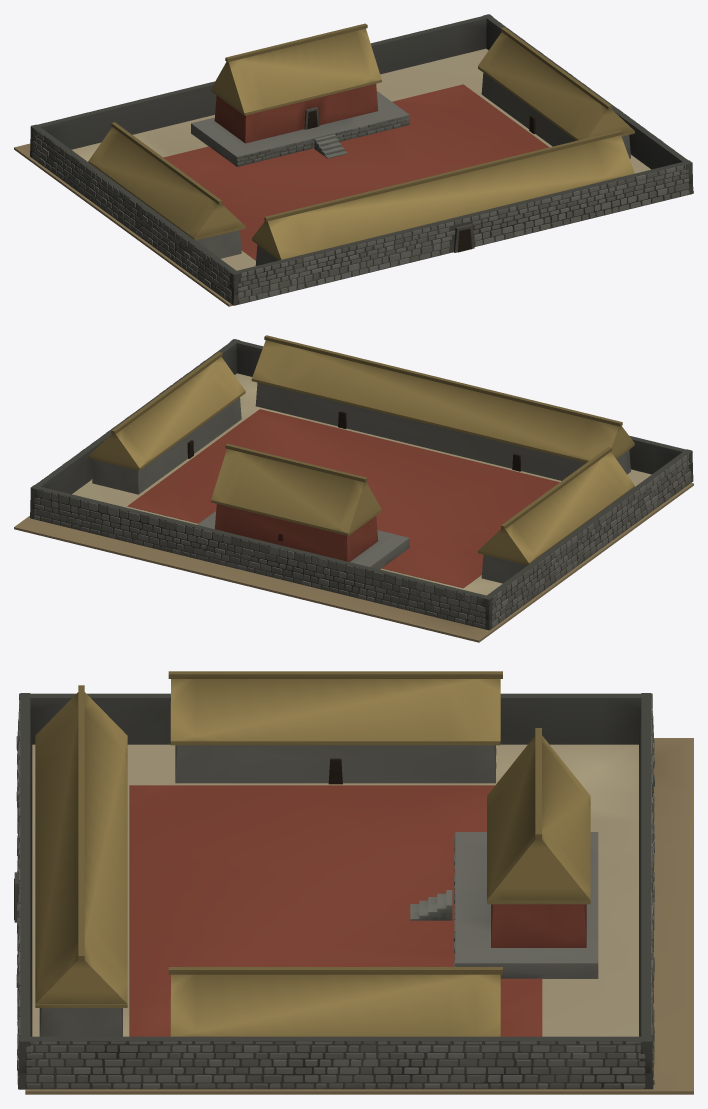
File: pucamarca.glb
3 renders of one model, top to bottom at view 1: azimuth 30°, elevation 25°; view 2: azimuth 150°, elevation 25°; view 3: azimuth 270°, elevation 25°, orthographic. The views are drawn at different scales.
Parts seen in each view (by area): view 1: p1_walls, p2_roofs, p0_ground; view 2: p1_walls, p2_roofs, p0_ground; view 3: p1_walls, p2_roofs, p0_ground.
Boxes of the visible parts, box(x1,y1,x2,y2) form: p1_walls: box(30, 14, 693, 305); p2_roofs: box(88, 23, 634, 260); p0_ground: box(14, 143, 693, 306); p1_walls: box(30, 339, 693, 630); p2_roofs: box(88, 335, 634, 565); p0_ground: box(14, 483, 693, 642); p1_walls: box(14, 693, 654, 1089); p2_roofs: box(35, 671, 590, 1036); p0_ground: box(25, 738, 693, 1094).
Bounding box in the file's own units: 70 × 12.65 × 56.95.
